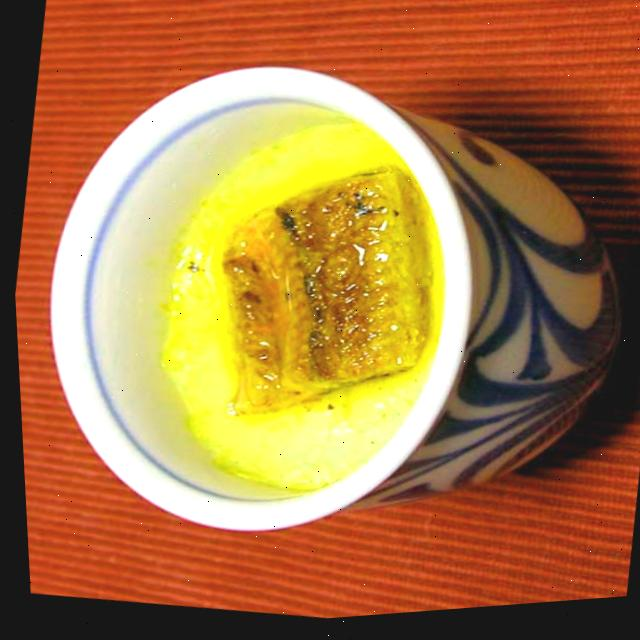鸡蛋料理: (1, 0, 640, 530)
